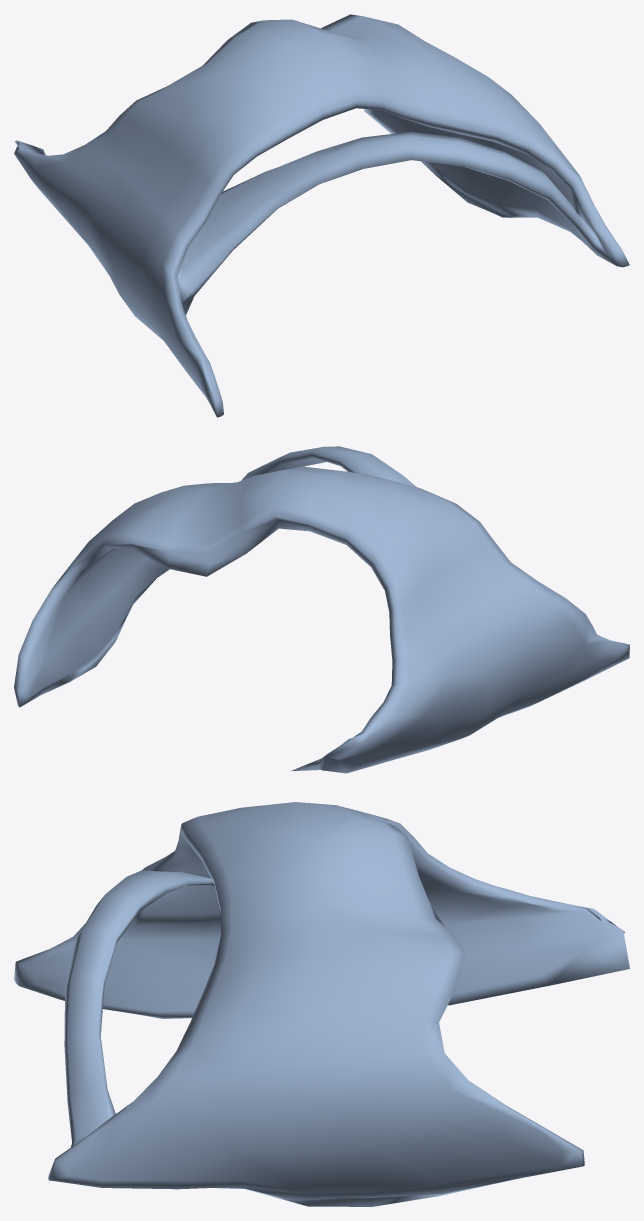
File: junRoadcover.fbx
3 renders of one model, top to bottom at view 1: azimuth 30°, elevation 25°; view 2: azimuth 150°, elevation 25°; view 3: azimuth 270°, elevation 25°, orthographic. The views are drawn at different scales.
Visible parts, largest first — view 1: cover_LOD0; view 2: cover_LOD0; view 3: cover_LOD0.
Part boxes in pixels (x1,y1,x2,y2): cover_LOD0: (14,14,629,417); cover_LOD0: (14,446,629,773); cover_LOD0: (14,802,629,1206).
Bounding box in the file's own units: 791 × 431 × 832.
